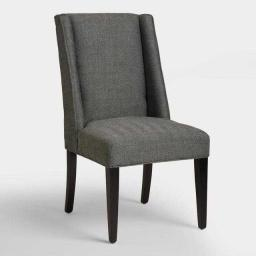Chair: (54, 13, 210, 241)
